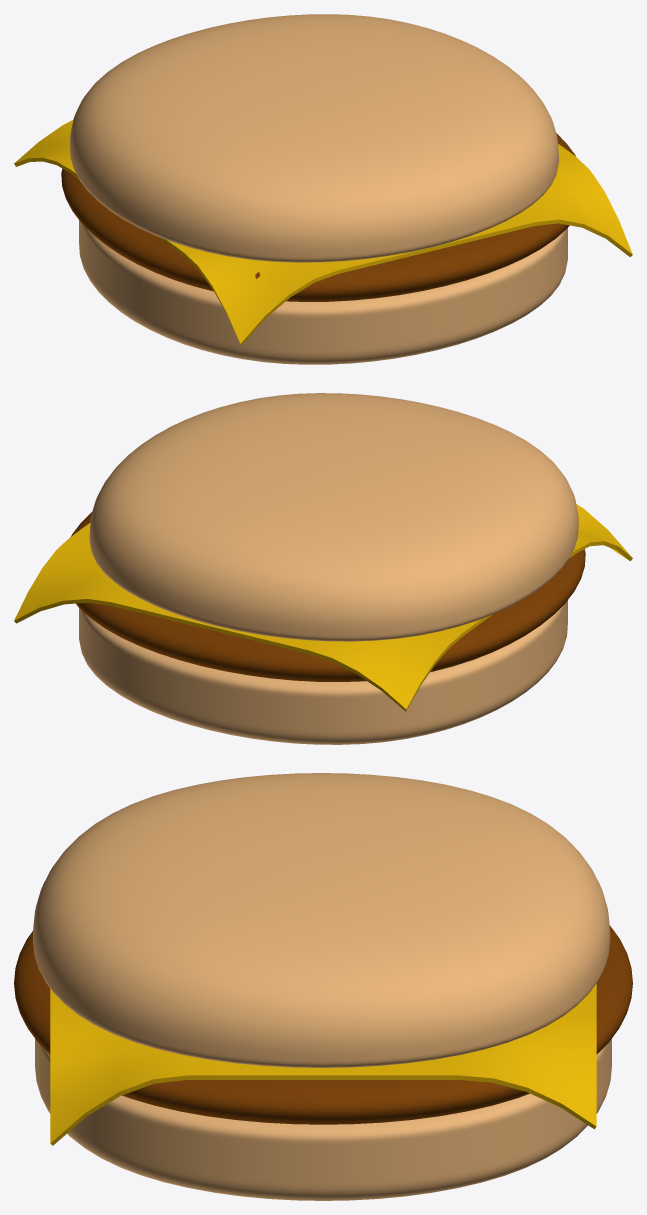
The model's file is hamburger.glb.
The picture shows the model from 3 angles, top to bottom: view 1: azimuth 30°, elevation 25°; view 2: azimuth 150°, elevation 25°; view 3: azimuth 270°, elevation 25°; orthographic projection. The views are drawn at different scales.
Parts seen in each view (by area): view 1: Cube.002, Cube, Plane, Cube.001; view 2: Cube.002, Cube, Plane, Cube.001; view 3: Cube.002, Cube, Plane, Cube.001.
Part boxes in pixels (left/top/right/bottom): Cube.002: left=70, top=14, right=558, bottom=262; Cube: left=79, top=220, right=567, bottom=364; Plane: left=14, top=120, right=632, bottom=345; Cube.001: left=61, top=133, right=575, bottom=301; Cube.002: left=89, top=393, right=578, bottom=641; Cube: left=79, top=600, right=567, bottom=744; Plane: left=14, top=504, right=632, bottom=711; Cube.001: left=71, top=512, right=585, bottom=681; Cube.002: left=33, top=773, right=610, bottom=1067; Cube: left=35, top=1039, right=611, bottom=1200; Plane: left=50, top=983, right=596, bottom=1145; Cube.001: left=14, top=925, right=632, bottom=1124.
Bounding box in the file's own units: 9.83 × 4.31 × 9.83.
